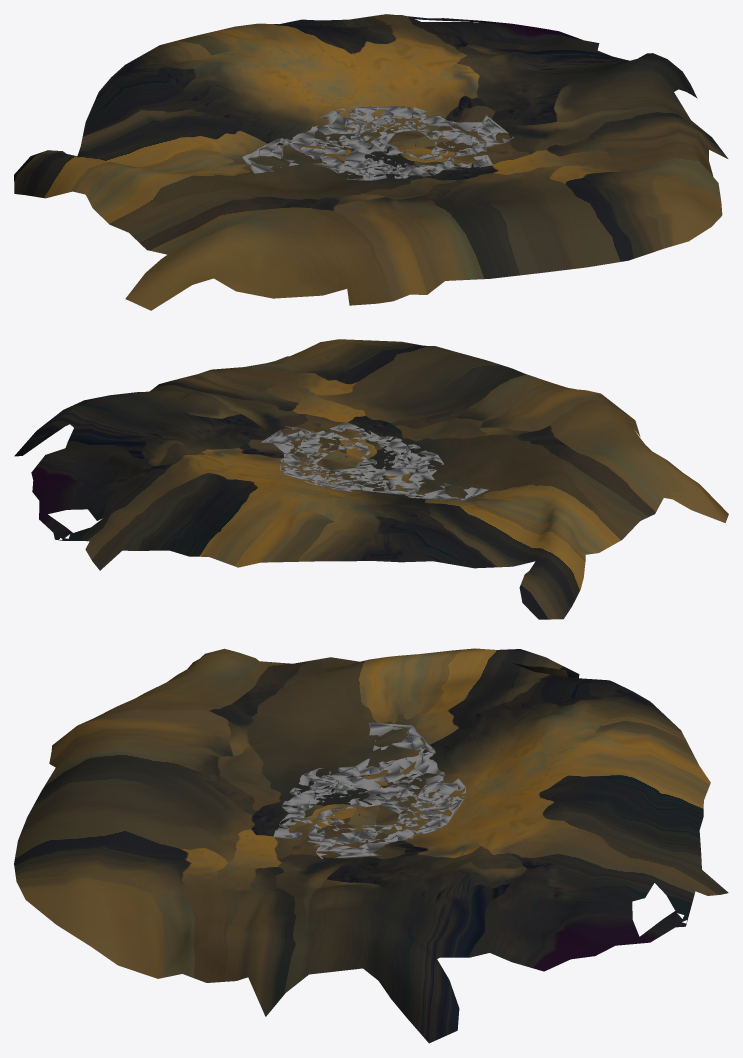
File: FieldEnvironment.fbx
3 views of the same model, one above another, from view 1: azimuth 30°, elevation 25°; view 2: azimuth 150°, elevation 25°; view 3: azimuth 270°, elevation 25° (orthographic). The views are drawn at different scales.
Parts seen in each view (by area): view 1: EnvGround_geo, grassClusterInst_geo; view 2: EnvGround_geo, grassClusterInst_geo; view 3: EnvGround_geo, grassClusterInst_geo.
Boxes of the visible parts, box(x1,y1,x2,y2) form: EnvGround_geo: box(14, 14, 728, 310); grassClusterInst_geo: box(242, 106, 513, 180); EnvGround_geo: box(14, 339, 728, 619); grassClusterInst_geo: box(261, 422, 488, 500); EnvGround_geo: box(14, 648, 728, 1043); grassClusterInst_geo: box(273, 722, 466, 858).
Size of what is drawn, in the model's own units: 6137 by 823 by 5171.
